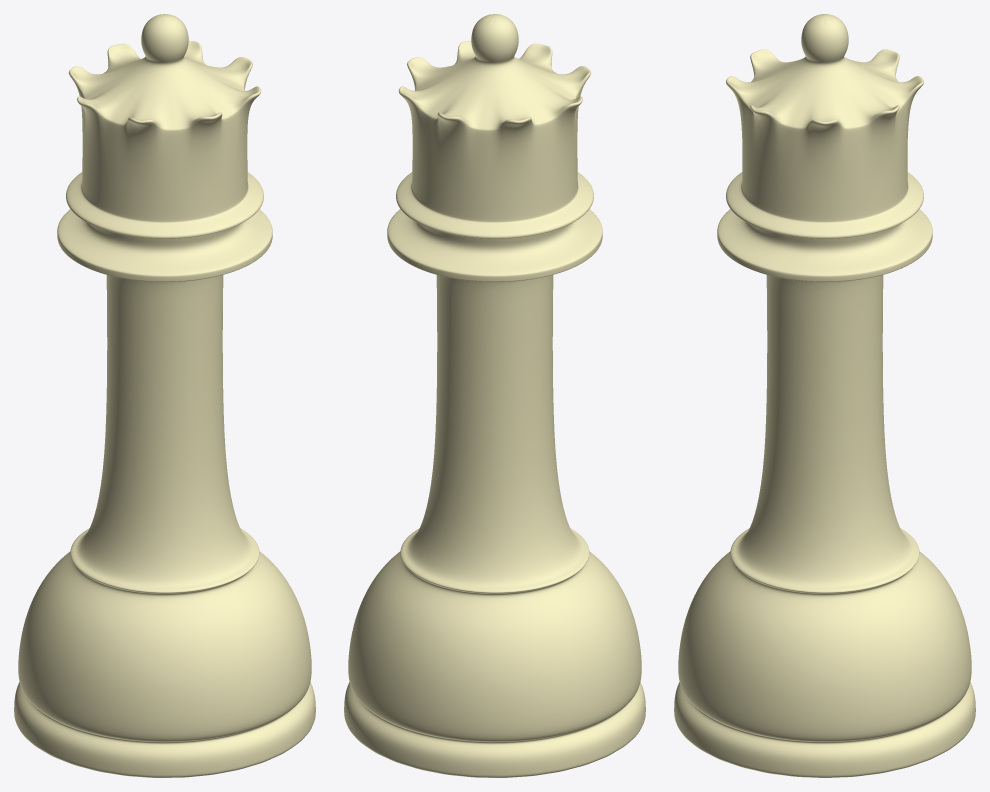
Rendered from Queen.fbx.
The picture shows the model from 3 angles, left to right: view 1: azimuth 30°, elevation 25°; view 2: azimuth 150°, elevation 25°; view 3: azimuth 270°, elevation 25°; orthographic projection.
Visible parts, largest first — view 1: Queen; view 2: Queen; view 3: Queen.
Boxes of the visible parts, x1,y1,x2,y2 form: Queen: (14, 14, 315, 777); Queen: (344, 14, 645, 777); Queen: (674, 14, 975, 777).
Size of the model in its own units: 333 by 855 by 333.
